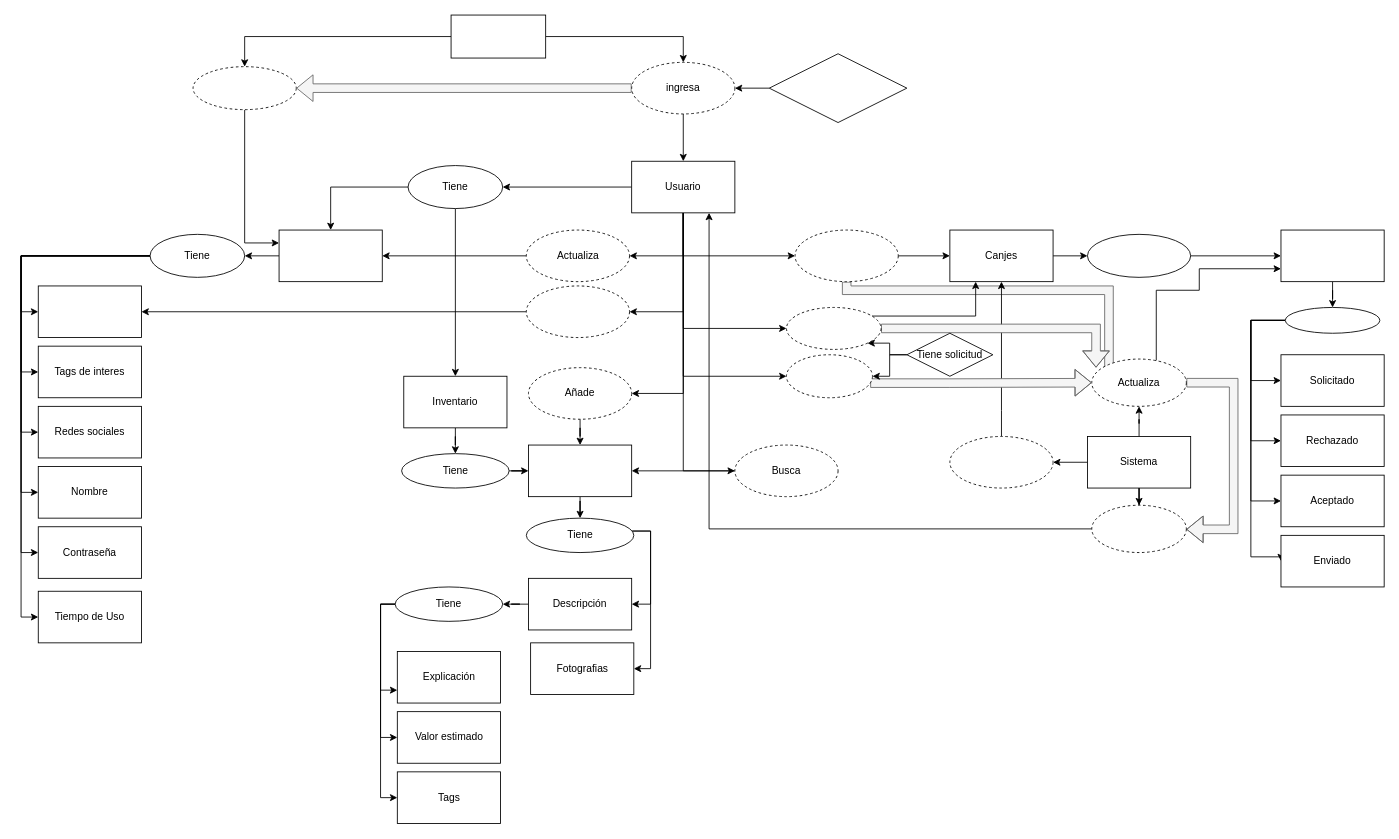
This 1399x839 diagram has some shape labels left out. Each missing label, with the box of its shape:
Acepta: (786, 307, 881, 349)
Anonimo: (450, 14, 546, 58)
Asesora: (949, 436, 1053, 488)
Es: (1284, 307, 1380, 333)
Esta registrado: (768, 53, 907, 123)
Estado: (1280, 229, 1384, 282)
Información: (278, 229, 382, 282)
Mayoría o no de edad: (37, 285, 141, 338)
Notifica: (1091, 504, 1186, 553)
Objetos: (528, 444, 632, 497)
Rechaza: (786, 354, 872, 398)
Registra: (192, 66, 296, 110)
Solicita: (794, 229, 898, 282)
Tienen: (1087, 233, 1191, 277)
Verifica: (525, 285, 630, 338)
